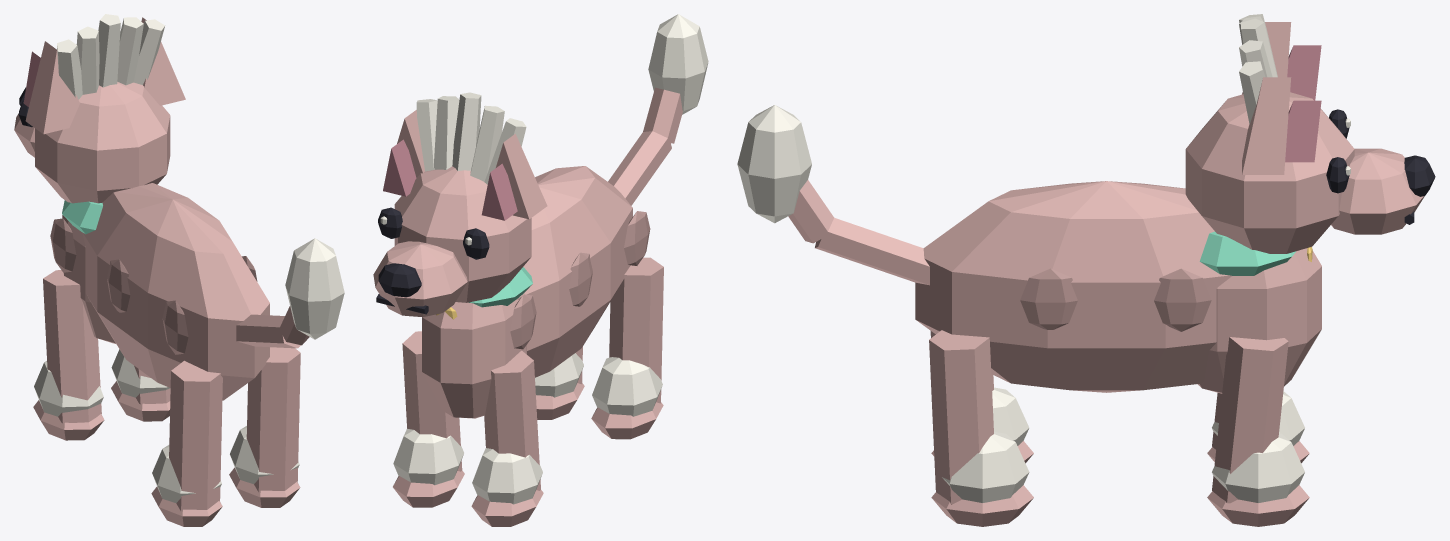
The model's file is chinese_crested.glb.
The picture shows the model from 3 angles, left to right: view 1: azimuth 30°, elevation 25°; view 2: azimuth 150°, elevation 25°; view 3: azimuth 270°, elevation 25°; orthographic projection. The views are drawn at different scales.
Parts seen in each view (by area): view 1: BodyMesh, HeadMesh; view 2: BodyMesh, HeadMesh; view 3: BodyMesh, HeadMesh.
Part boxes in pixels (box(x1,y1,x2,y2)): BodyMesh: box(33, 183, 344, 526); HeadMesh: box(14, 14, 185, 203); BodyMesh: box(393, 14, 708, 526); HeadMesh: box(373, 92, 547, 317); BodyMesh: box(737, 105, 1321, 526); HeadMesh: box(1185, 14, 1435, 253).
Size of the model in its own units: 0.4108 by 1.13 by 1.49.
